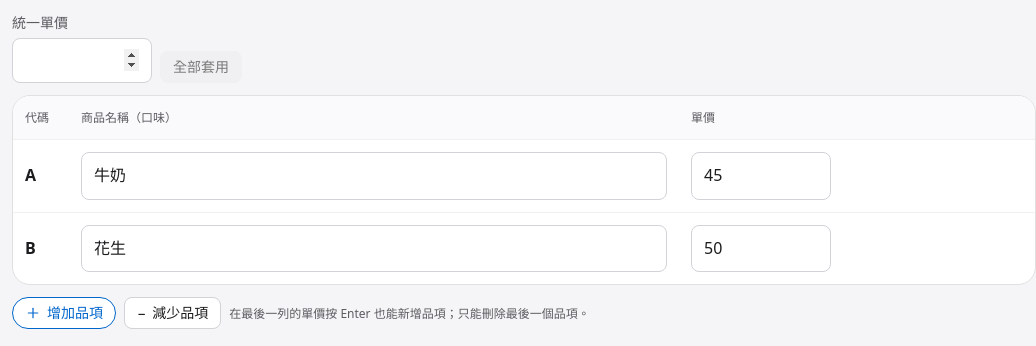
Test: ItemTable › applies one price to every item
This screenshot has width=1036, height=346.
Expected: the button "全部套用" is disabled, [160,51,242,83]
Type "60" into the number field labelled "統一單價" at [82, 61], box [12,38,152,83]
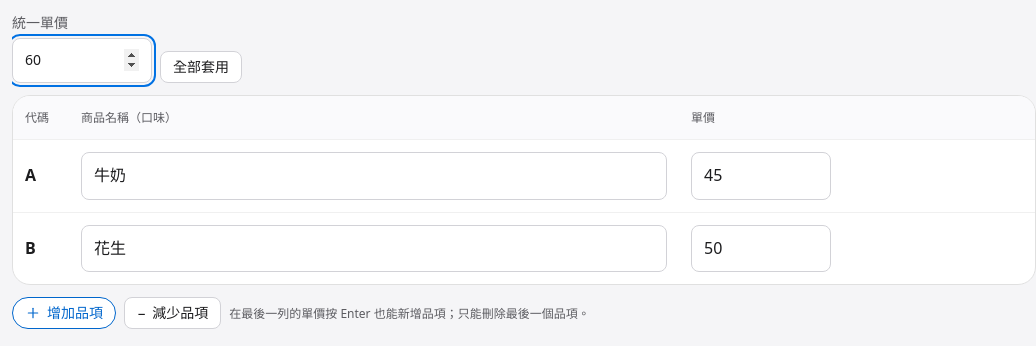
Click the button "全部套用" at [201, 67], box [160,51,242,83]
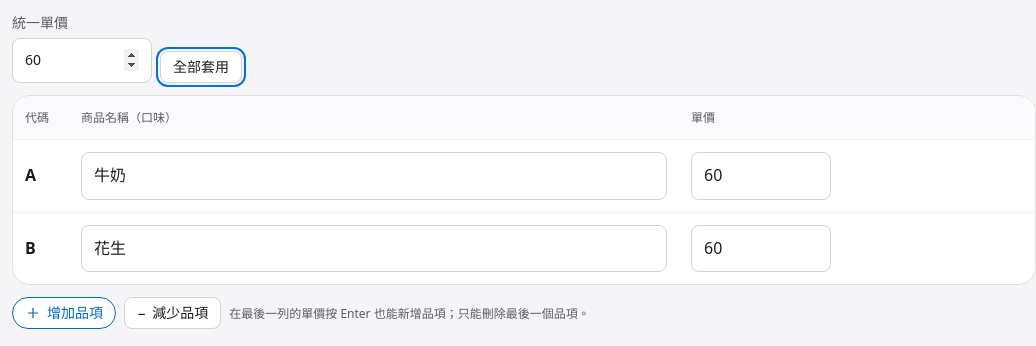
Expected: the number field named "品項 A 單價" holds "60", [691,152,831,200]
Expected: the number field named "品項 B 單價" holds "60", [691,225,831,272]
